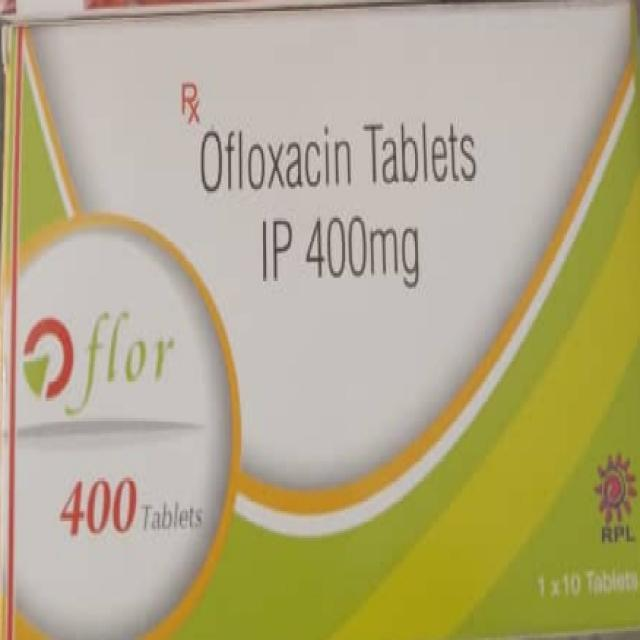drug-name: (20, 301, 180, 418)
